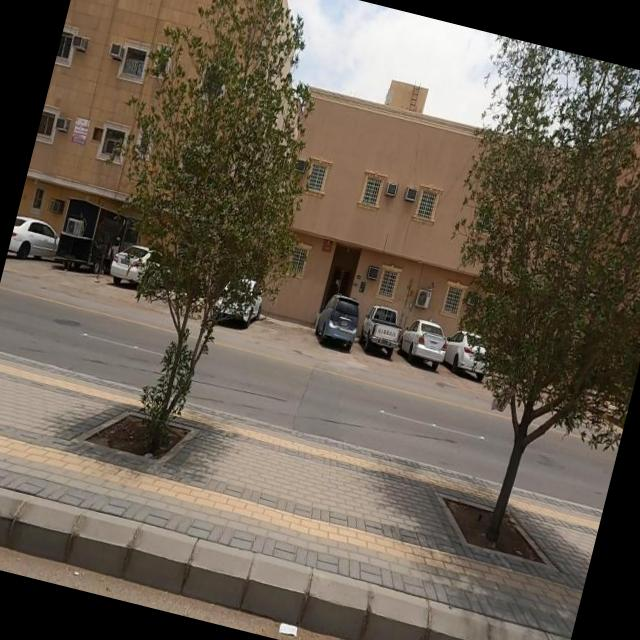debris: (234, 567, 334, 640)
